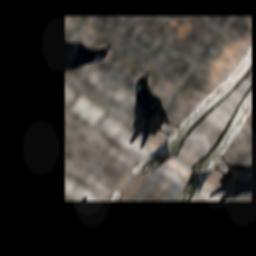Crow: (102, 68, 201, 162)
